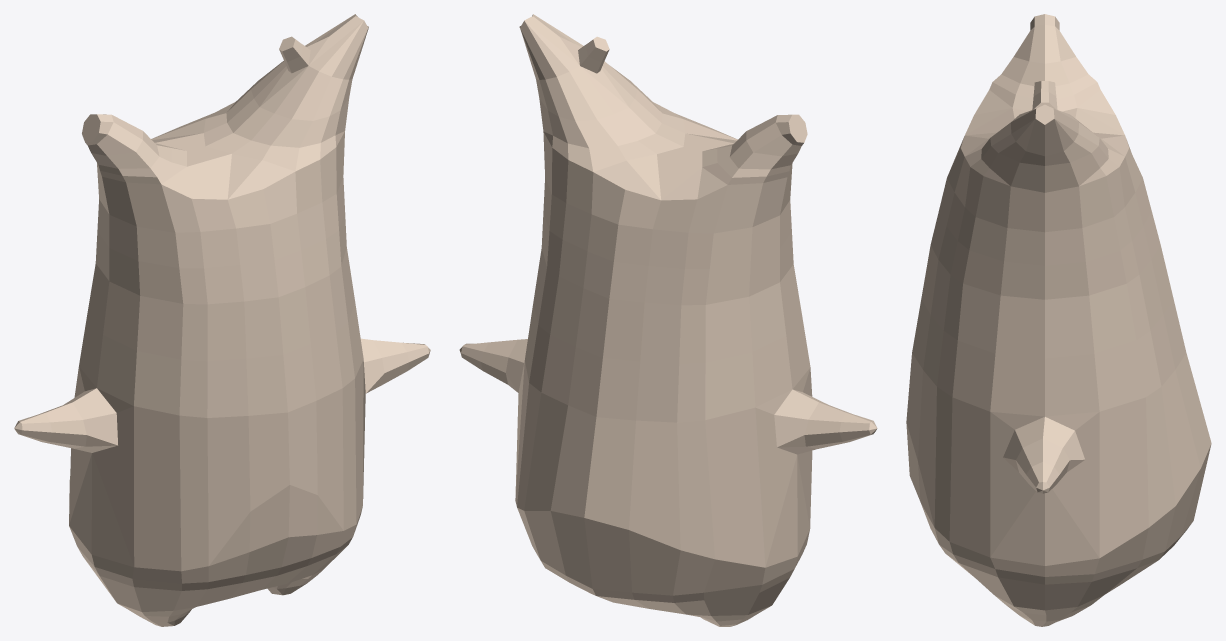
Rendered from frame_0151.obj.
3 renders of one model, left to right at view 1: azimuth 30°, elevation 25°; view 2: azimuth 150°, elevation 25°; view 3: azimuth 270°, elevation 25°, orthographic.
Visible parts, largest first — view 1: korok; view 2: korok; view 3: korok.
Part boxes in pixels (left/top/right/bottom): korok: left=14, top=14, right=430, bottom=626; korok: left=459, top=14, right=877, bottom=626; korok: left=906, top=14, right=1211, bottom=626.
Size of the model in its own units: 1.68 by 2.16 by 1.07.
